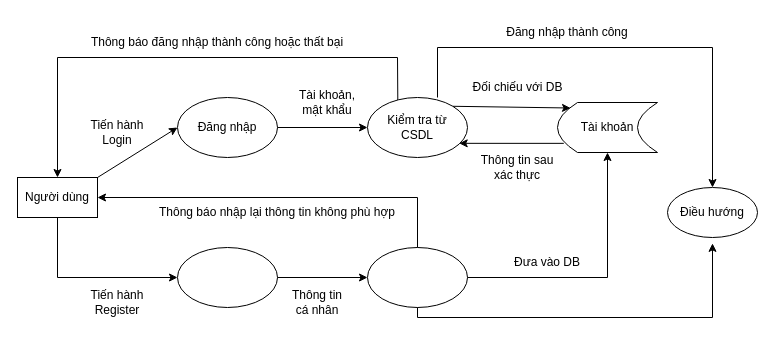
Image size: 775x343. Some labels were removed from this diagram. The shapes that lost their labels are listed below. From the top down, each one's centre as x and y in pixels, then its label:
At point 227,277: "Đăng ký".
At point 417,277: "Kiểm tra thông tin hợp lệ".
